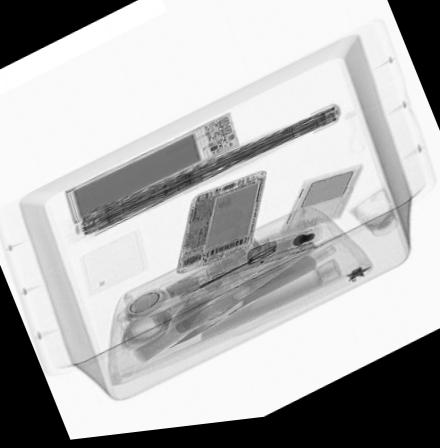Powerbank: (62, 115, 245, 227)
